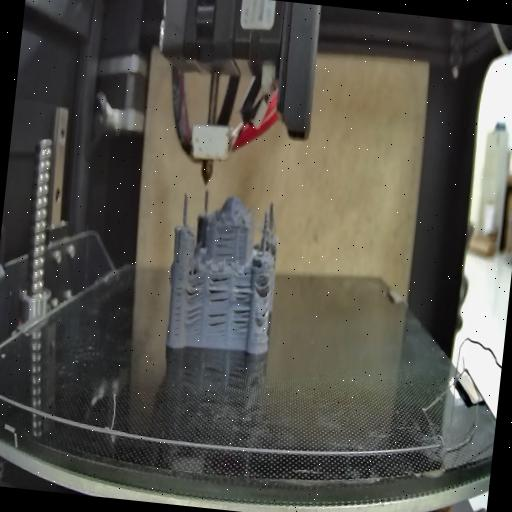cracks: (230, 280, 253, 336), (171, 272, 187, 340), (208, 274, 232, 304), (215, 229, 238, 260), (206, 308, 228, 336), (184, 274, 204, 302), (182, 302, 203, 328), (256, 278, 271, 302), (256, 304, 270, 328)
